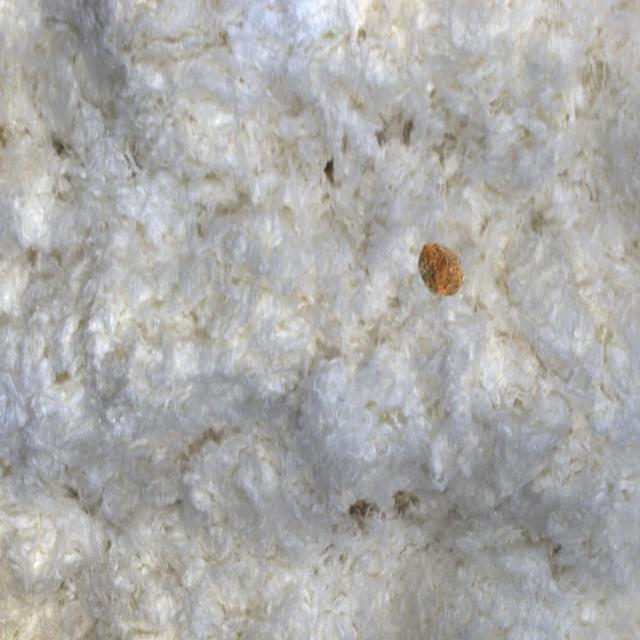dust: (399, 217, 491, 324)
